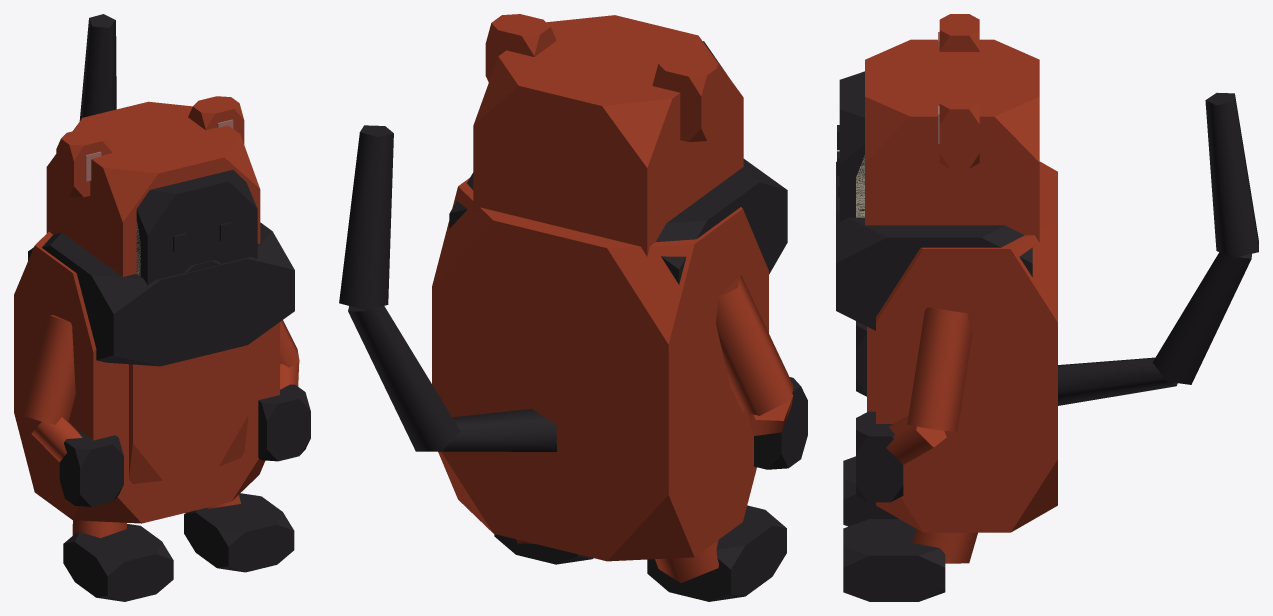
Rendered from original-ruffed.glb.
3 renders of one model, left to right at view 1: azimuth 30°, elevation 25°; view 2: azimuth 150°, elevation 25°; view 3: azimuth 270°, elevation 25°, orthographic. The views are drawn at different scales.
Visible parts, largest first — view 1: ruffed; view 2: ruffed; view 3: ruffed.
Boxes of the visible parts, x1,y1,x2,y2 form: ruffed: (14, 14, 310, 601); ruffed: (339, 14, 807, 601); ruffed: (836, 14, 1258, 601).
Size of the model in its own units: 0.9974 by 1.48 by 1.16.
